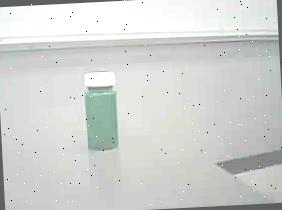Bottle C: (74, 64, 136, 158)
